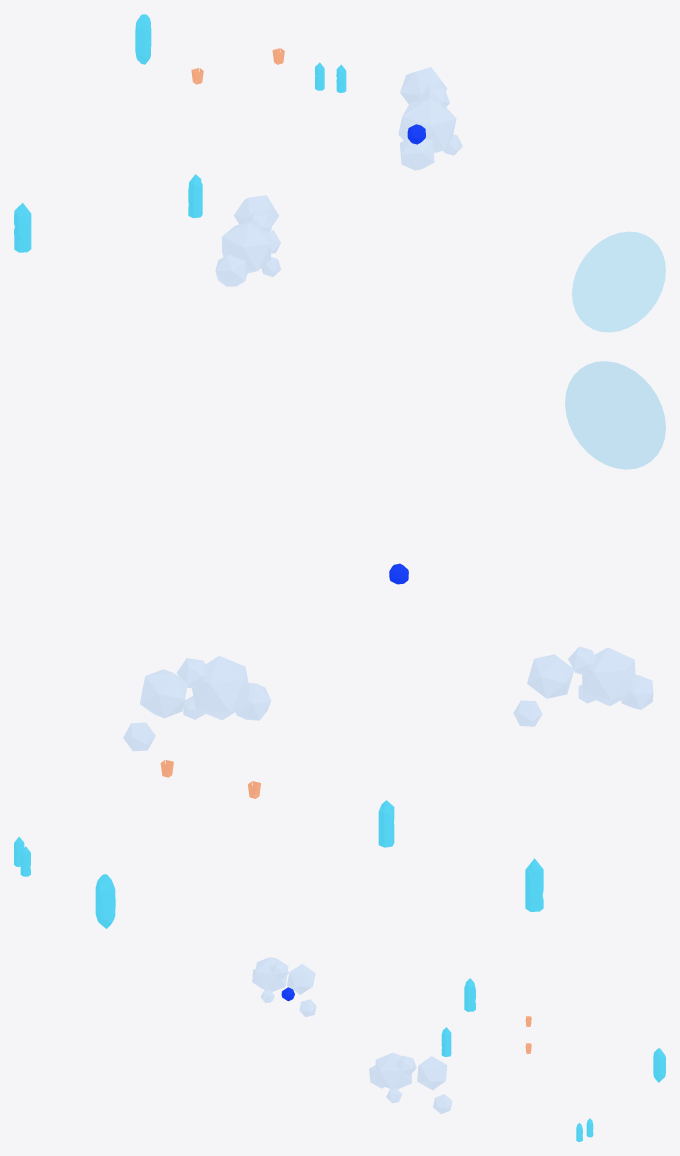
The model's file is light.gltf.
The picture shows the model from 3 angles, top to bottom: view 1: azimuth 30°, elevation 25°; view 2: azimuth 150°, elevation 25°; view 3: azimuth 270°, elevation 25°; orthographic projection. The views are drawn at different scales.
Visible parts, largest first — view 1: portalLight, treeLight02, treeLight01, crystarLight05, crystarLight, crystarLight04; view 2: portalLight, treeLight02, treeLight01, crystarLight, crystarLight05; view 3: treeLight02, treeLight01, crystarLight, crystarLight05, crystarLight04.
Boxes of the visible parts, x1,y1,x2,y2 form: portalLight: [572, 231, 665, 332]; treeLight02: [398, 67, 462, 170]; treeLight01: [215, 195, 281, 286]; crystarLight05: [14, 203, 31, 252]; crystarLight: [135, 14, 151, 64]; crystarLight04: [188, 174, 202, 218]; portalLight: [565, 361, 665, 469]; treeLight02: [123, 656, 271, 751]; treeLight01: [513, 646, 653, 726]; crystarLight: [95, 874, 115, 928]; crystarLight05: [525, 858, 543, 911]; treeLight02: [369, 1052, 452, 1114]; treeLight01: [252, 957, 316, 1017]; crystarLight: [653, 1048, 665, 1082]; crystarLight05: [464, 978, 475, 1011]; crystarLight04: [441, 1027, 451, 1056].
Bounding box in the file's own units: 38.29 × 17.75 × 77.68.
